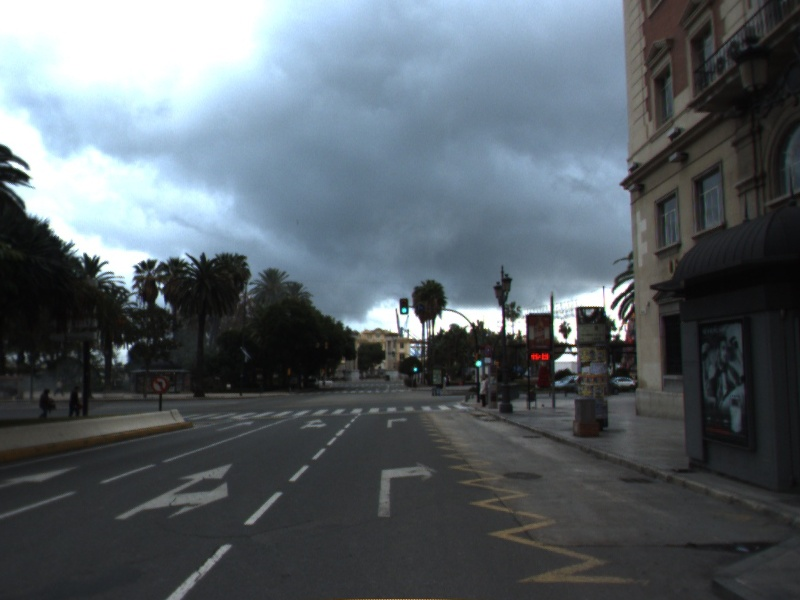RIGHT: (373, 458, 442, 520), (384, 415, 411, 430)
STRAIGHT: (1, 463, 82, 493), (213, 418, 258, 433)
STRAIGHT_RIGHT: (110, 460, 236, 522), (296, 417, 330, 431)
